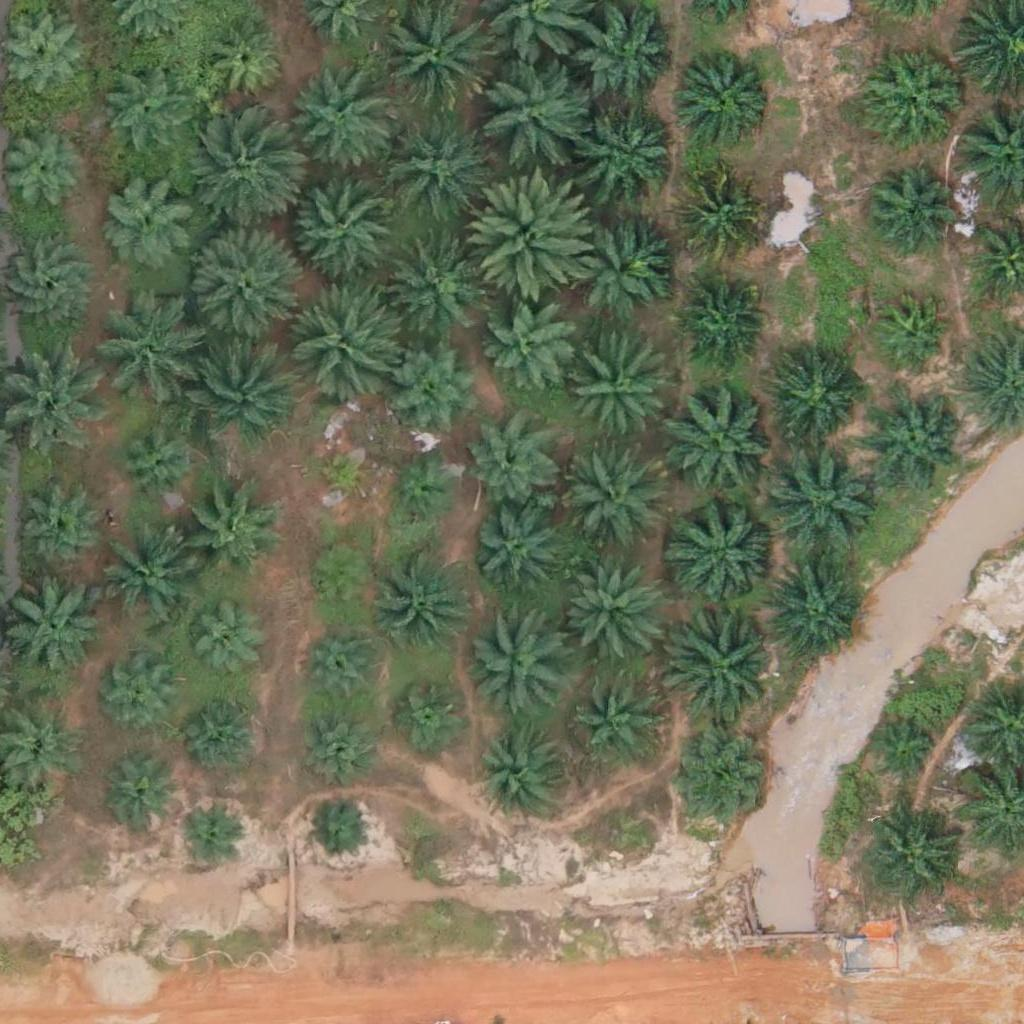Kelapa_Sawit: (472, 174, 597, 300), (474, 52, 587, 166), (763, 440, 876, 553), (664, 384, 777, 497), (668, 495, 781, 608), (380, 112, 493, 225), (287, 167, 400, 280), (184, 228, 297, 341), (184, 330, 296, 444), (667, 607, 779, 720), (280, 68, 392, 181), (285, 285, 397, 398), (182, 119, 294, 232), (762, 561, 862, 662), (862, 806, 962, 907), (674, 45, 774, 146), (670, 734, 770, 835), (581, 104, 681, 205), (567, 341, 667, 442), (562, 453, 662, 554), (558, 561, 658, 662), (384, 233, 484, 334), (386, 334, 486, 435), (178, 482, 278, 583), (92, 531, 192, 632), (92, 303, 192, 404), (2, 579, 102, 680), (377, 548, 477, 649), (865, 46, 965, 146), (868, 391, 968, 491), (576, 11, 676, 111), (566, 211, 666, 311), (469, 613, 569, 713), (99, 169, 199, 269), (862, 163, 950, 251), (773, 358, 861, 446), (673, 169, 761, 257), (466, 421, 554, 509), (291, 704, 379, 792), (199, 18, 287, 106), (113, 420, 201, 508), (469, 508, 556, 597), (99, 68, 186, 157), (676, 277, 763, 365), (576, 679, 663, 767), (478, 728, 565, 816), (484, 301, 571, 389), (301, 623, 388, 711), (18, 489, 105, 577), (184, 606, 259, 682), (186, 694, 261, 770), (385, 454, 460, 530), (874, 294, 949, 370), (304, 541, 379, 617), (392, 676, 467, 751), (104, 661, 179, 736), (102, 761, 177, 836), (868, 718, 943, 793), (175, 802, 238, 865), (308, 798, 370, 861), (311, 442, 373, 505)
